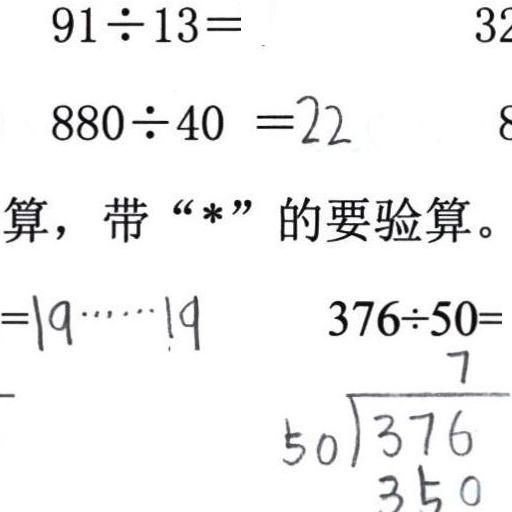ans: (27, 287, 203, 352), (291, 89, 350, 146)
